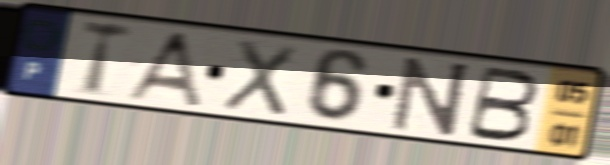6: (303, 46, 371, 127)
A: (120, 29, 206, 110)
B: (463, 63, 543, 144)
N: (388, 54, 473, 138)
T: (77, 17, 137, 99)
X: (218, 36, 300, 119)
